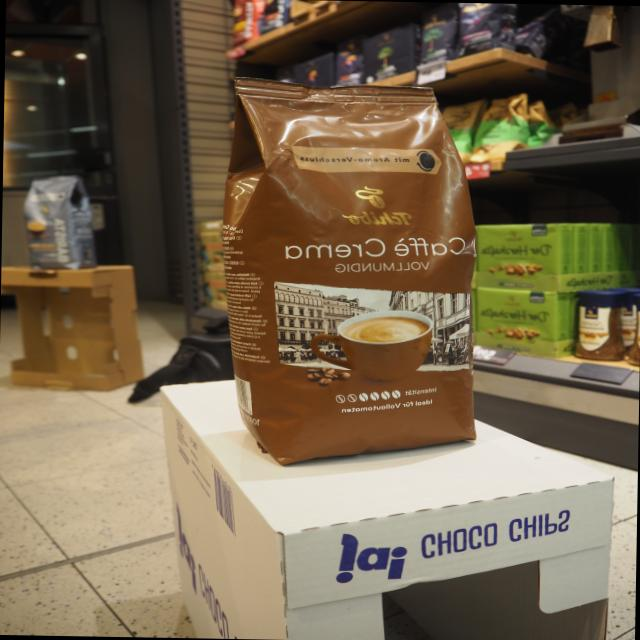CC Vollmundig 36 Pads: (213, 72, 488, 470)
